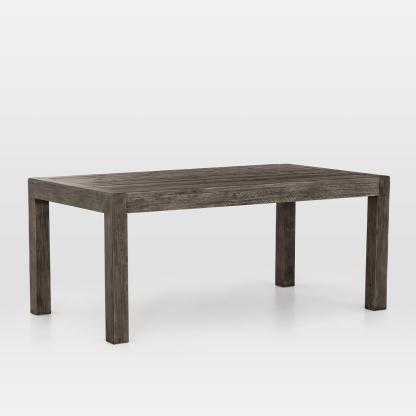table: (27, 165, 390, 346)
